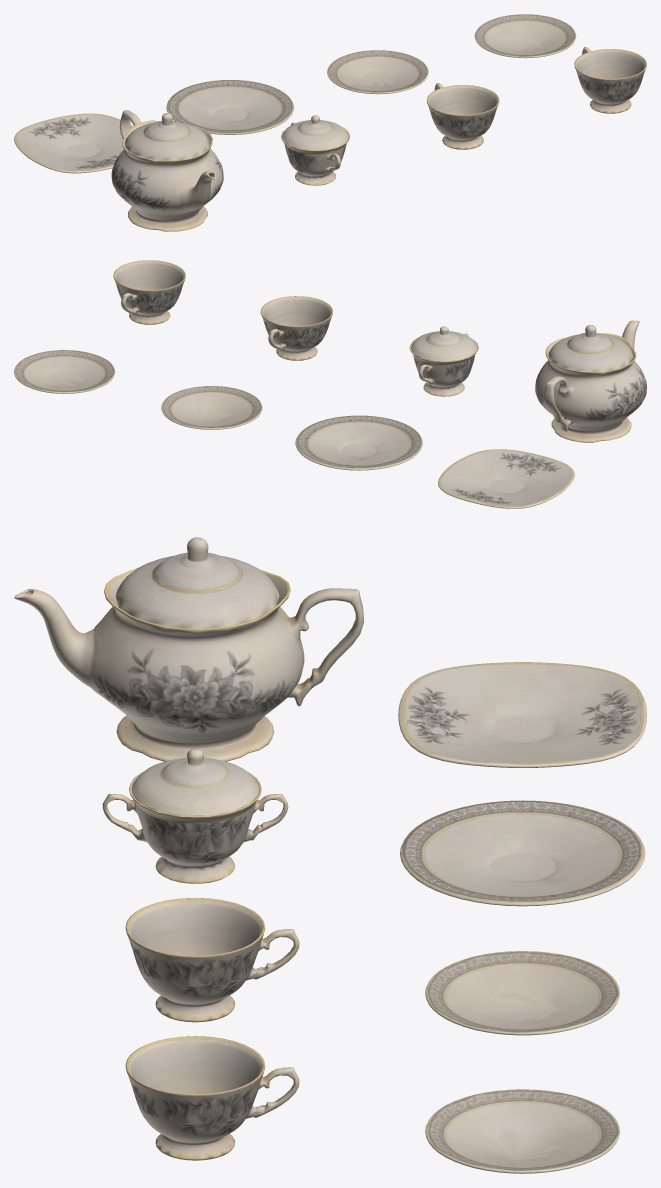
File: tea-set-01.glb
3 views of the same model, one above another, from view 1: azimuth 30°, elevation 25°; view 2: azimuth 150°, elevation 25°; view 3: azimuth 270°, elevation 25° (orthographic). The views are drawn at different scales.
Parts seen in each view (by area): view 1: tea_set_01; view 2: tea_set_01; view 3: tea_set_01.
Boxes of the visible parts, box(x1,y1,x2,y2) form: tea_set_01: box(14, 14, 646, 231); tea_set_01: box(14, 260, 646, 508); tea_set_01: box(14, 537, 646, 1173).
Size of the model in its own units: 0.9185 by 0.1648 by 0.4835.
1 material, 1 textured.
